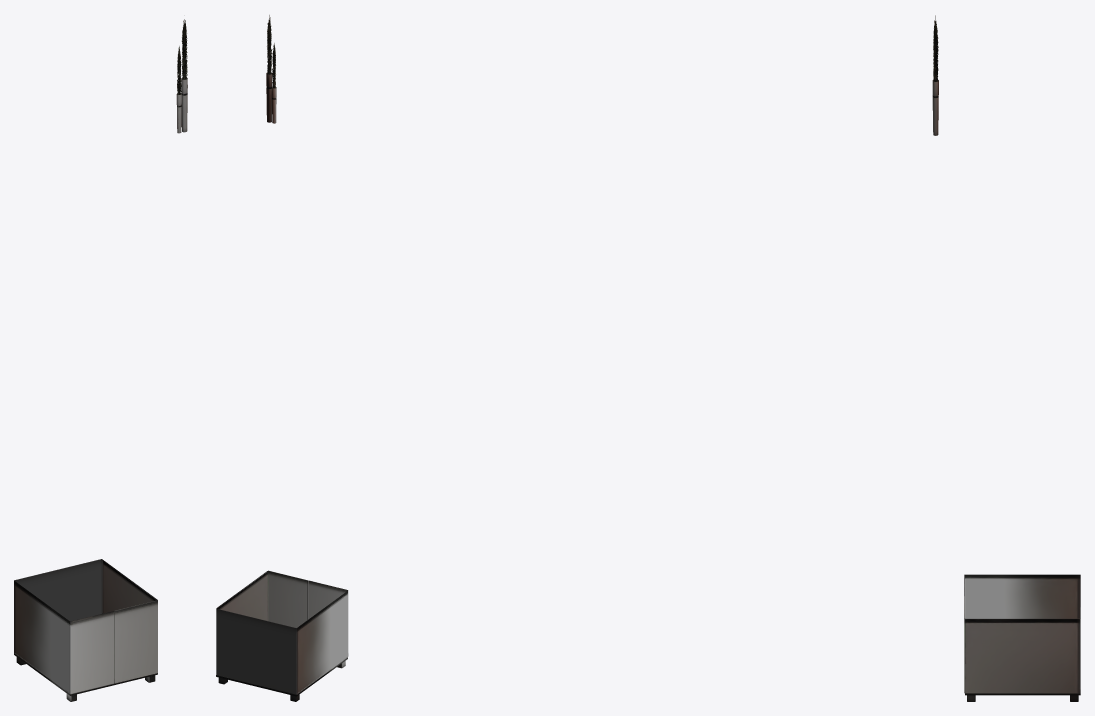
File: WhiteCabinet.glb
The picture shows the model from 3 angles, left to right: view 1: azimuth 30°, elevation 25°; view 2: azimuth 150°, elevation 25°; view 3: azimuth 270°, elevation 25°; orthographic projection. The views are drawn at different scales.
Parts seen in each view (by area): view 1: Bathroom.038, Plants, Bathroom.043; view 2: Bathroom.038, Plants; view 3: Bathroom.038.
Boxes of the visible parts, box(x1,y1,x2,y2) form: Bathroom.038: box(14, 559, 157, 694); Plants: box(176, 19, 187, 133); Bathroom.043: box(14, 653, 157, 695); Bathroom.038: box(216, 570, 348, 694); Plants: box(266, 15, 276, 123); Bathroom.038: box(964, 574, 1080, 693).
Size of the model in its own units: 3.42 by 13.25 by 8.33.
3 materials, 3 textured.
